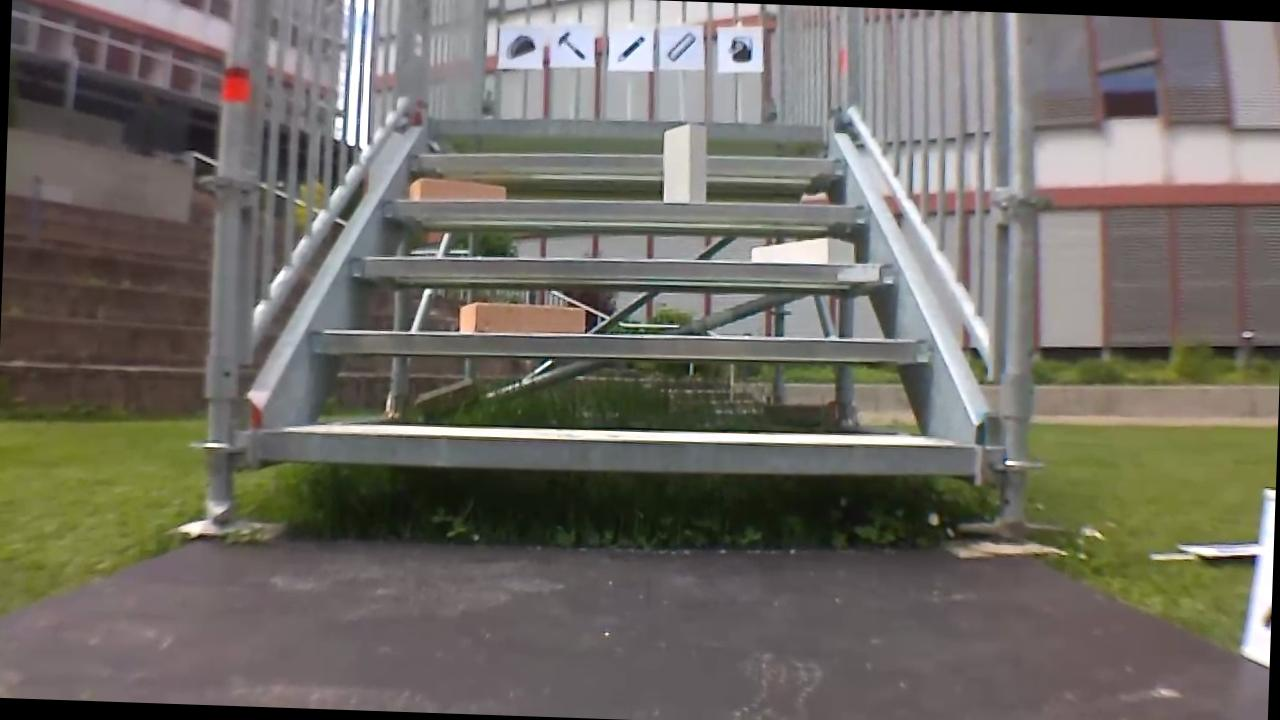brick: (458, 299, 584, 335), (663, 123, 708, 204), (749, 235, 854, 263), (409, 177, 504, 203)
bucket: (720, 30, 756, 68)
edge: (261, 419, 977, 485), (311, 318, 931, 368), (348, 245, 902, 291), (383, 187, 865, 230), (412, 144, 843, 181), (429, 110, 830, 146)
hammer: (549, 26, 590, 63)
pencil: (611, 31, 647, 66)
ruler: (664, 26, 700, 65)
steps: (252, 99, 992, 500)
taco: (501, 28, 538, 66)
